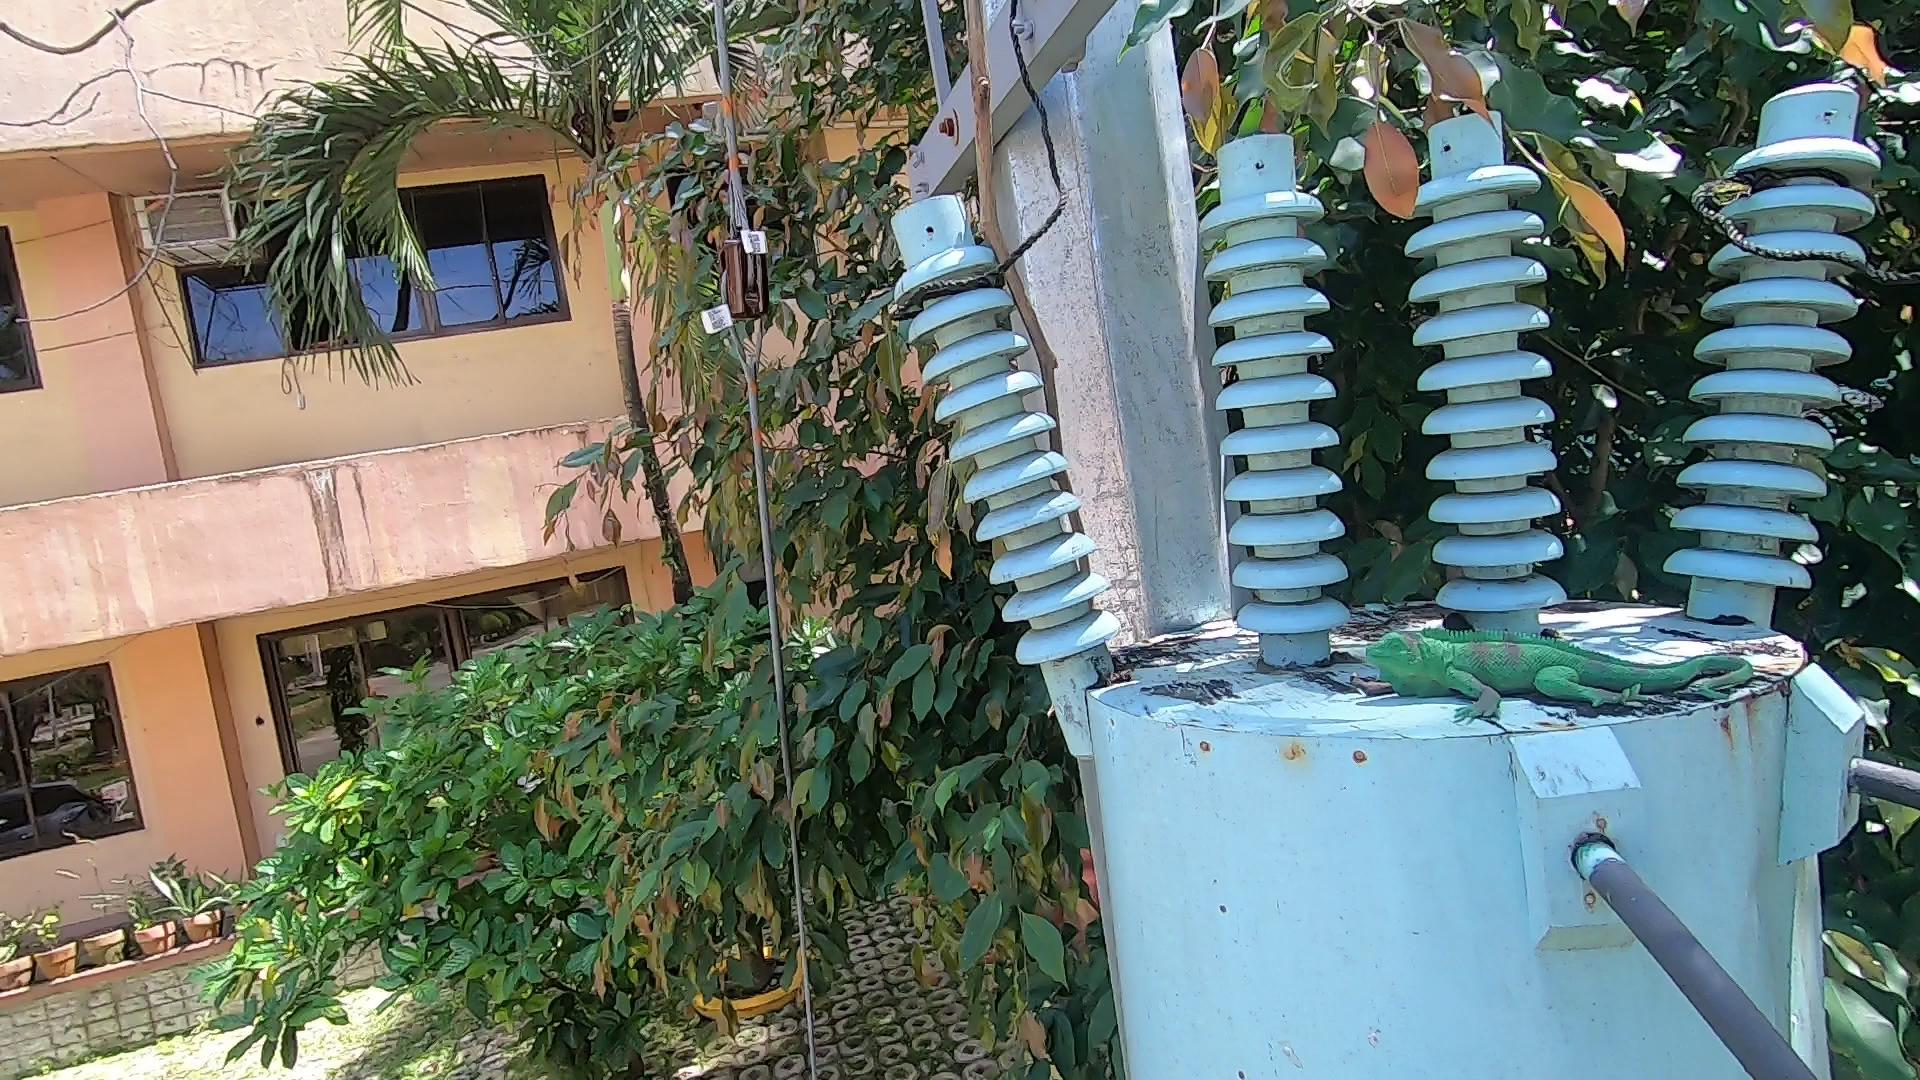branch with leaves: (1369, 34, 1644, 298)
leaf: (1081, 669, 1172, 696), (1336, 673, 1396, 705), (1364, 603, 1429, 630), (1437, 616, 1480, 636)
tree branch: (927, 7, 1142, 634)
